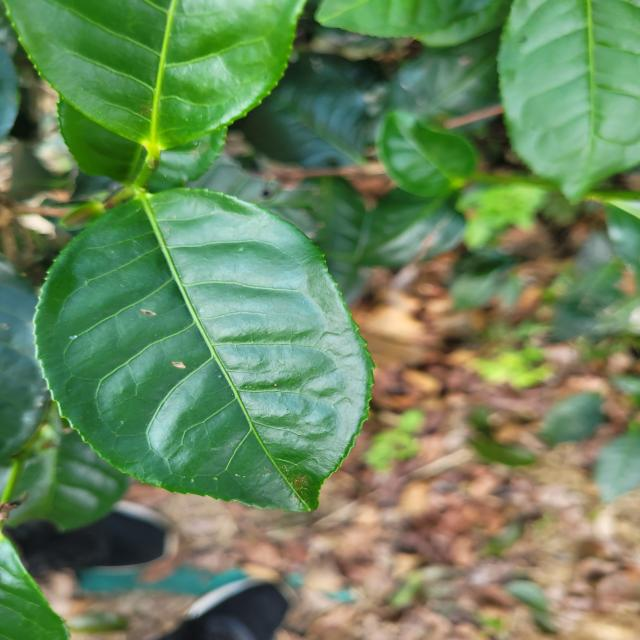Category D(7+ days, Not for Tea): (26, 165, 370, 526)
